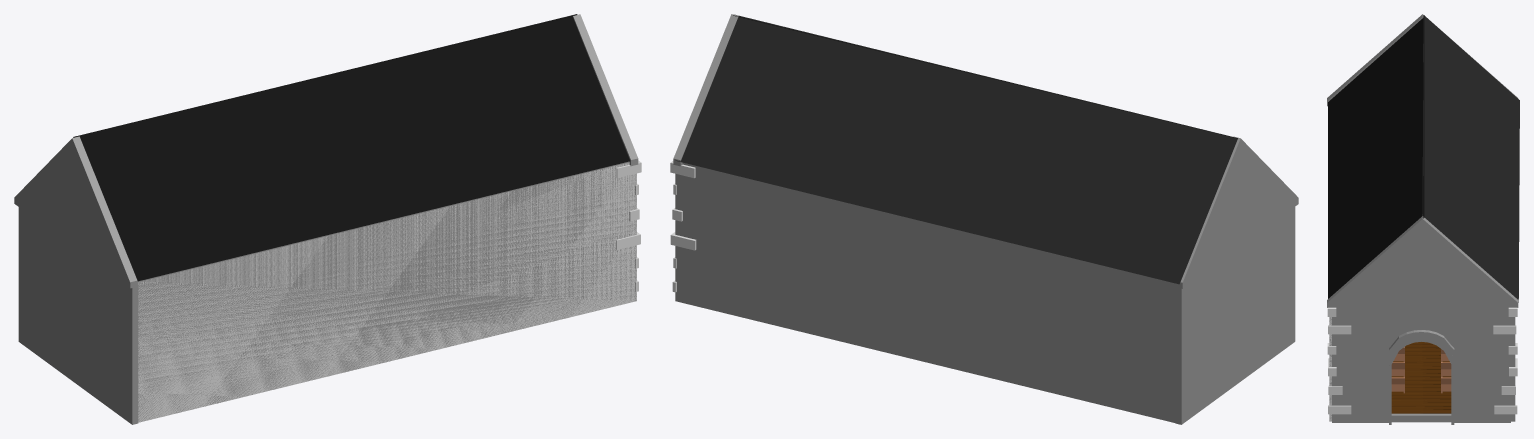
File: Kerk zonder door_luik .fbx
3 views of the same model, side by side, from view 1: azimuth 30°, elevation 25°; view 2: azimuth 150°, elevation 25°; view 3: azimuth 270°, elevation 25° (orthographic). The views are drawn at different scales.
Parts seen in each view (by area): view 1: Plane, Muur, Muur.002, Muur.003, Cube.016, Cube.015; view 2: Plane.001, Muur.001, Muur.003, Cube.016, Cube.015; view 3: Plane.001, Plane, Muur front, Cube.015, planks, Cube.016, Cube.018, Cube.021, Muur.001, Cube.011, Cube.013, Cube.005 (+1 smaller).
Boxes of the visible parts, bbox=[...] form: Plane: bbox=[73, 14, 629, 281]; Muur: bbox=[138, 162, 636, 422]; Muur.002: bbox=[137, 161, 636, 422]; Muur.003: bbox=[18, 207, 138, 424]; Cube.016: bbox=[14, 136, 137, 288]; Cube.015: bbox=[572, 14, 638, 166]; Plane.001: bbox=[675, 14, 1237, 284]; Muur.001: bbox=[675, 162, 1175, 423]; Muur.003: bbox=[1175, 207, 1295, 424]; Cube.016: bbox=[1175, 136, 1298, 288]; Cube.015: bbox=[673, 14, 738, 166]; Plane.001: bbox=[1422, 15, 1519, 302]; Plane: bbox=[1328, 15, 1424, 298]; Muur front: bbox=[1332, 305, 1510, 424]; Cube.015: bbox=[1327, 216, 1518, 307]; planks: bbox=[1391, 342, 1451, 413]; Cube.016: bbox=[1327, 14, 1518, 106]; Cube.018: bbox=[1391, 347, 1404, 393]; Cube.021: bbox=[1441, 349, 1451, 393]; Muur.001: bbox=[1511, 317, 1515, 421]; Cube.011: bbox=[1494, 405, 1517, 414]; Cube.013: bbox=[1493, 325, 1516, 334]; Cube.005: bbox=[1328, 405, 1351, 414].
Size of the model in its own units: 17448 by 8015 by 6873.
